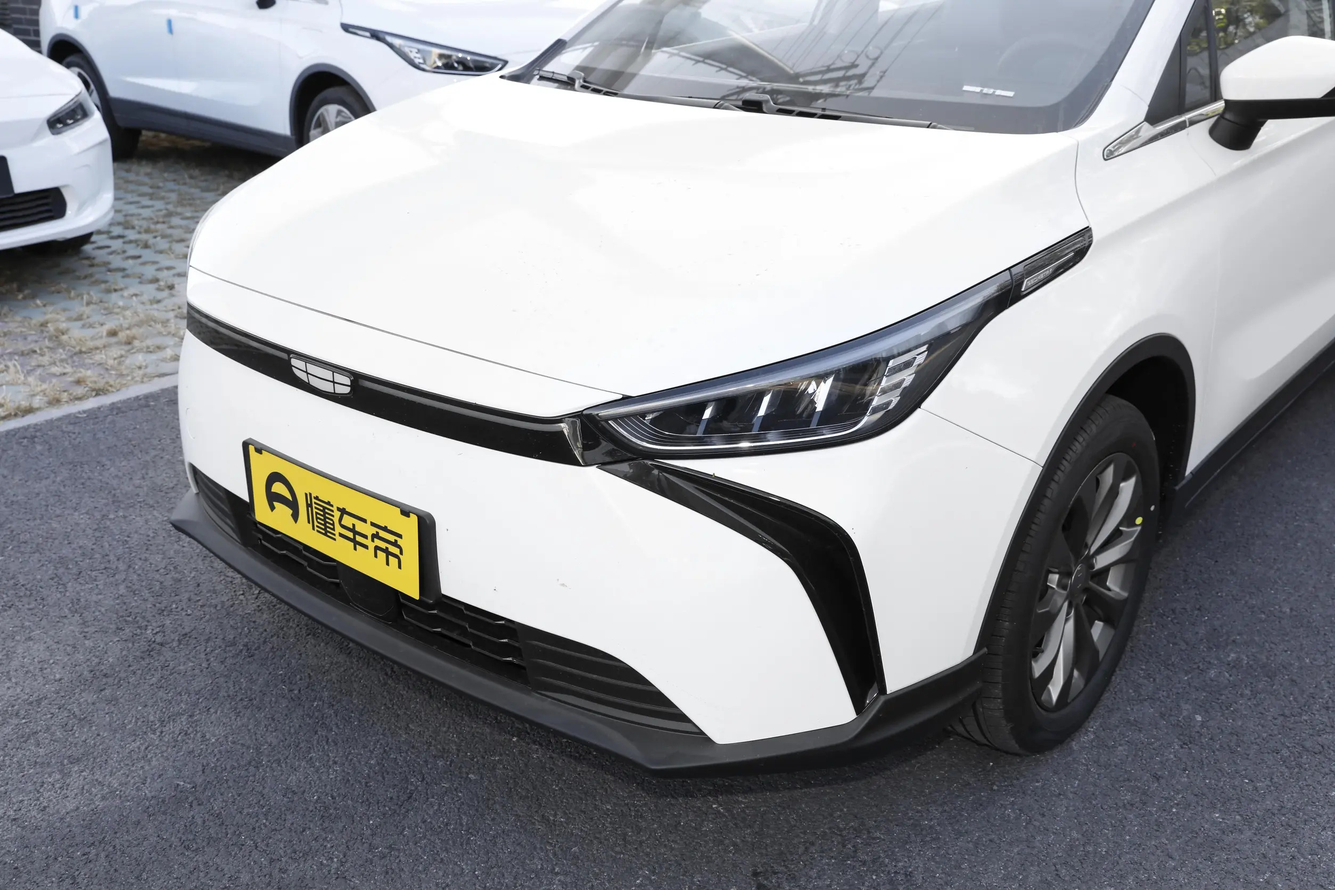GEOMETRY: (292, 359, 350, 393)
